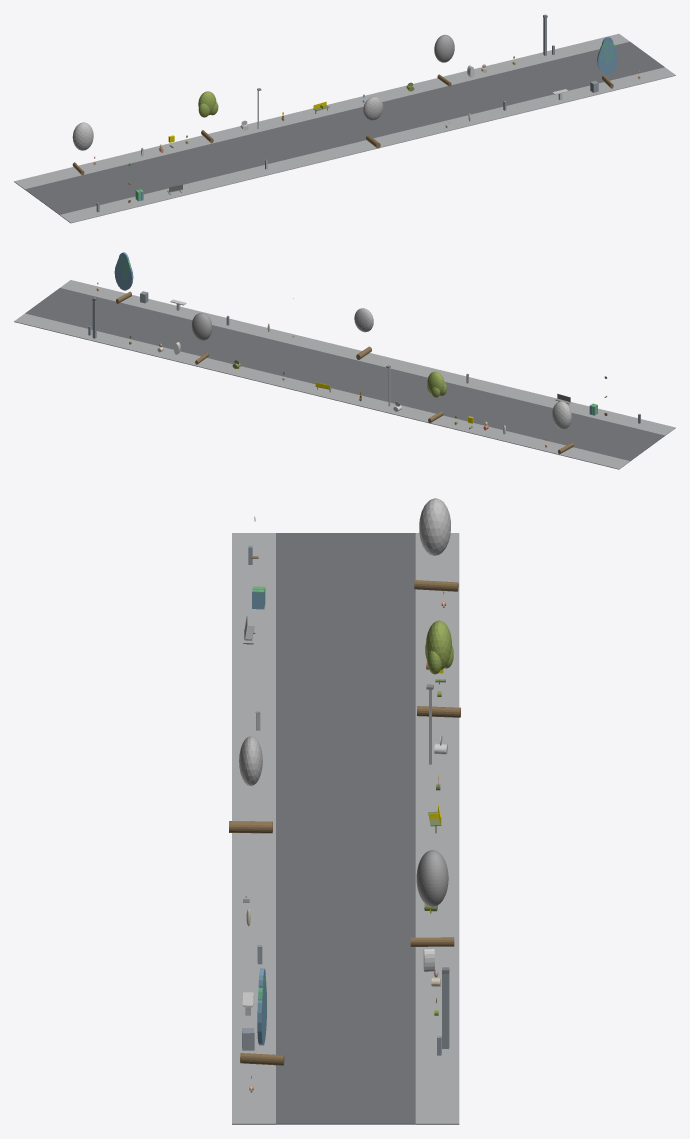
The picture shows the model from 3 angles, top to bottom: view 1: azimuth 30°, elevation 25°; view 2: azimuth 150°, elevation 25°; view 3: azimuth 270°, elevation 25°; orthographic projection. The views are drawn at different scales.
Visible parts, largest first — view 1: road_slab, sidewalk_left, sidewalk_right, inst_0016, inst_0012, inst_0015, inst_0013, inst_0014; view 2: road_slab, sidewalk_right, sidewalk_left, inst_0016, inst_0012, inst_0015, inst_0013, inst_0014; view 3: road_slab, sidewalk_left, sidewalk_right, inst_0012, inst_0015, inst_0013, inst_0014, inst_0016.
Boxes of the visible parts, x1,y1,x2,y2 form: road_slab: [25, 41, 664, 214]; sidewalk_left: [60, 67, 675, 223]; sidewalk_right: [14, 34, 629, 189]; inst_0016: [597, 36, 618, 88]; inst_0012: [72, 122, 93, 175]; inst_0015: [434, 34, 454, 86]; inst_0013: [198, 91, 218, 143]; inst_0014: [363, 96, 383, 148]; road_slab: [25, 288, 664, 461]; sidewalk_right: [14, 313, 629, 469]; sidewalk_left: [60, 280, 675, 435]; inst_0016: [114, 252, 133, 303]; inst_0012: [552, 401, 573, 454]; inst_0015: [191, 312, 212, 364]; inst_0013: [427, 371, 446, 422]; inst_0014: [354, 308, 373, 359]; road_slab: [276, 533, 415, 1124]; sidewalk_left: [232, 533, 275, 1124]; sidewalk_right: [415, 533, 459, 1124]; inst_0012: [414, 498, 458, 591]; inst_0015: [410, 850, 454, 946]; inst_0013: [417, 620, 460, 717]; inst_0014: [229, 736, 272, 833]; inst_0016: [240, 968, 284, 1065].
Size of the model in its own units: 80 by 6.08 by 13.28.
